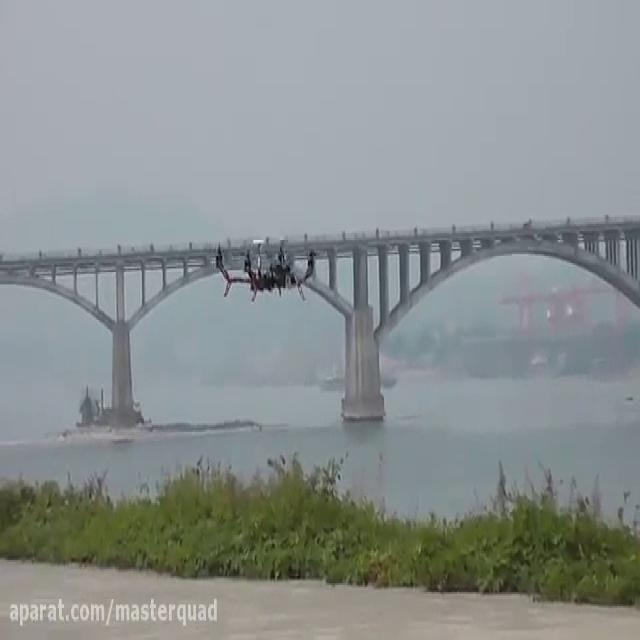drone: (211, 233, 322, 304)
